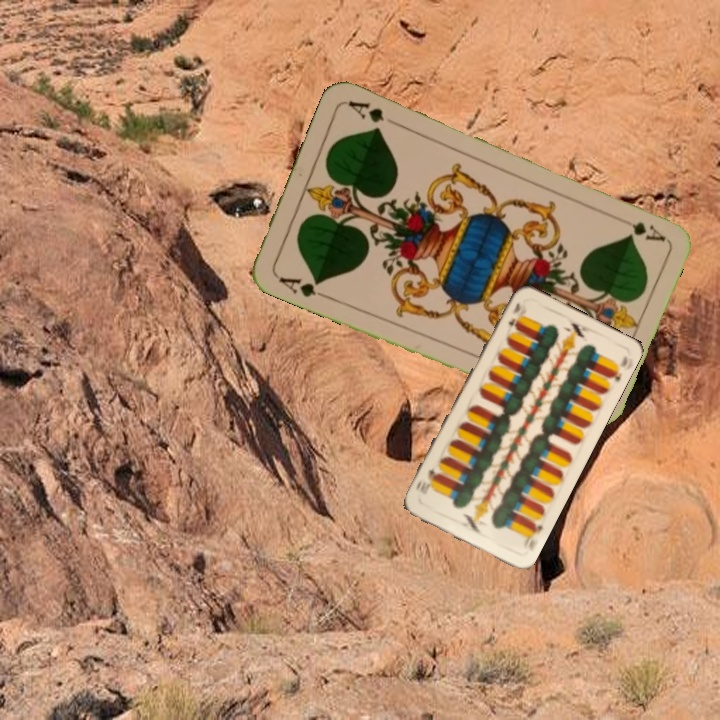E10: (521, 518, 546, 549), (504, 298, 523, 328)
GA: (612, 212, 668, 244), (273, 271, 329, 301)
